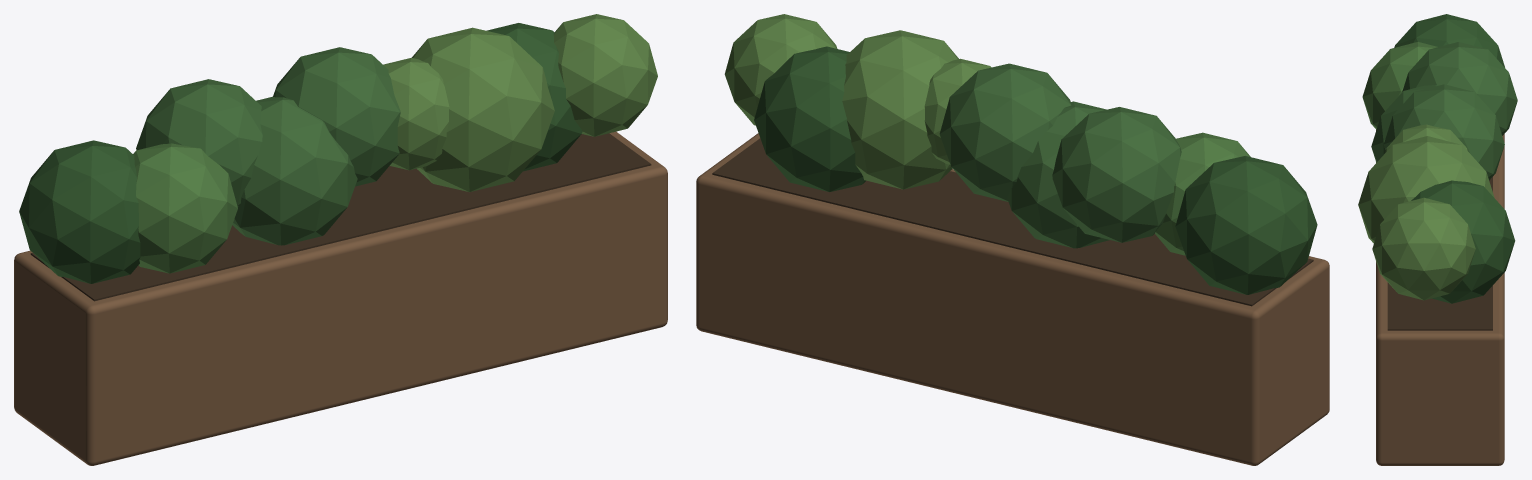
File: jardineira.glb
3 renders of one model, left to right at view 1: azimuth 30°, elevation 25°; view 2: azimuth 150°, elevation 25°; view 3: azimuth 270°, elevation 25°, orthographic. The views are drawn at different scales.
Visible parts, largest first — view 1: jardineira_malha; view 2: jardineira_malha; view 3: jardineira_malha.
Part boxes in pixels (bbox=[...]): jardineira_malha: bbox=[14, 14, 667, 465]; jardineira_malha: bbox=[696, 14, 1329, 465]; jardineira_malha: bbox=[1358, 14, 1517, 465].
Size of the model in its own units: 1.98 by 0.9865 by 0.5468.
